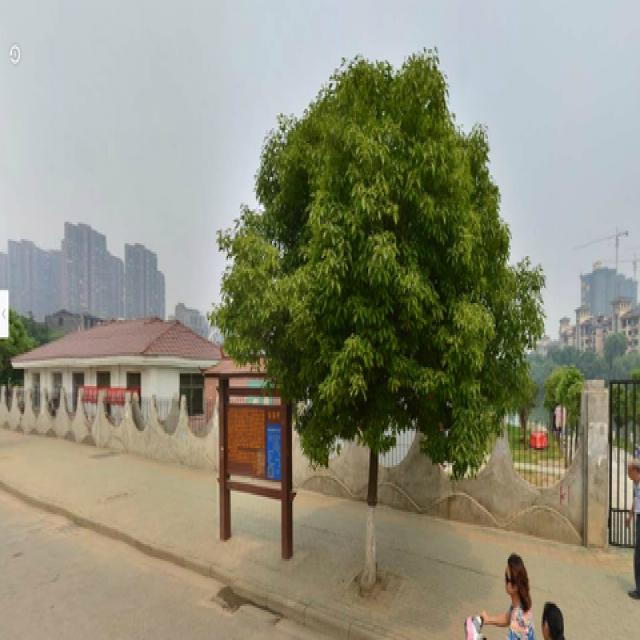cinn: (221, 47, 527, 576)
